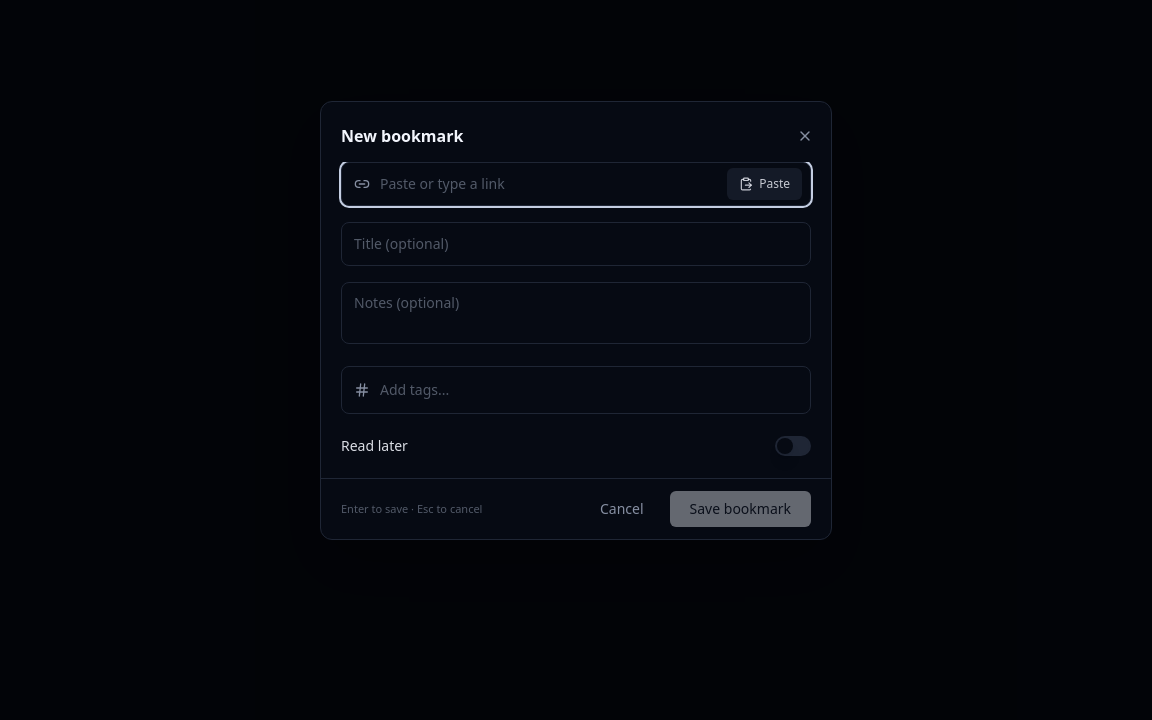
AddBookmarkDialog › mobile tag picker › Escape closes the picker, not the dialog
This screenshot has width=1152, height=720.
Click the button "Add tags..." at (415,389), box [341, 366, 811, 414]
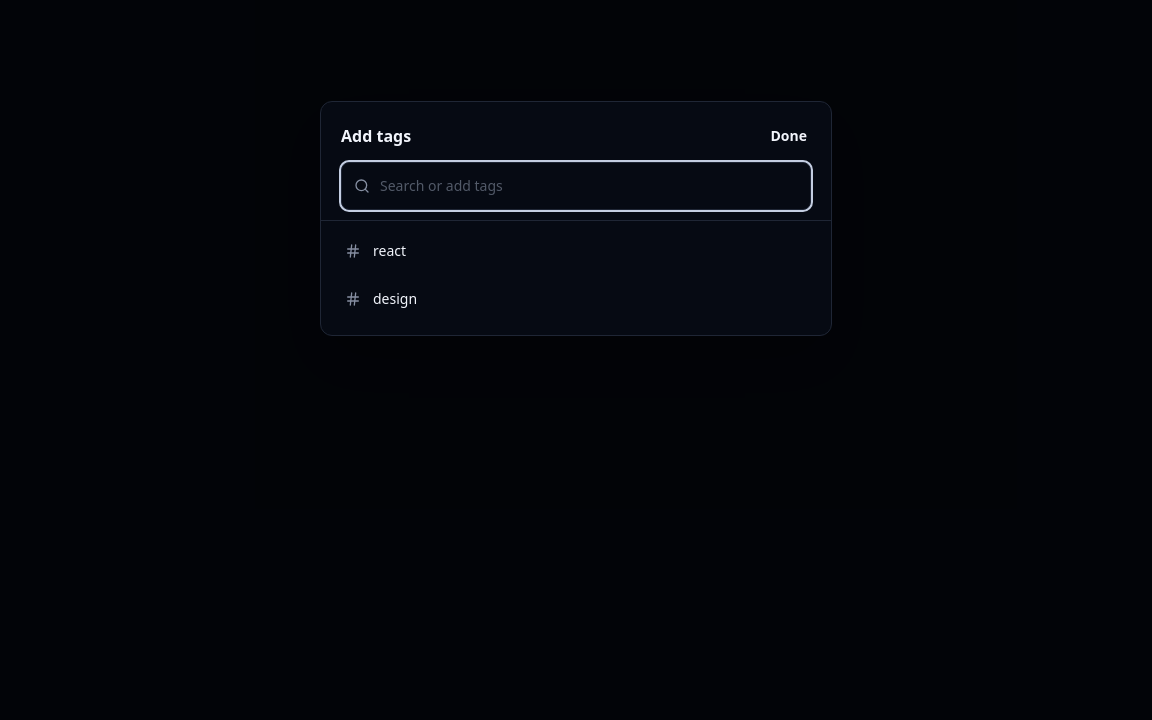
Press Escape in the field with placeholder "Search or add tags", box [380, 163, 798, 209]
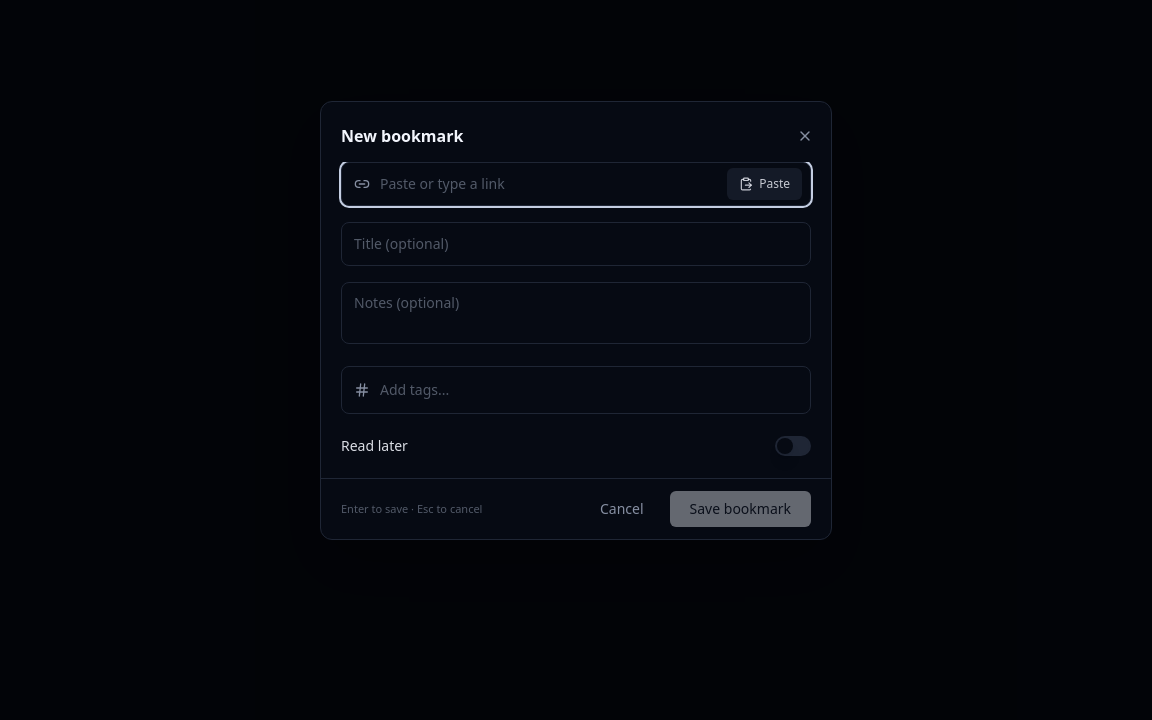
Expected: the heading "New bookmark" is shown, [341, 124, 463, 148]
